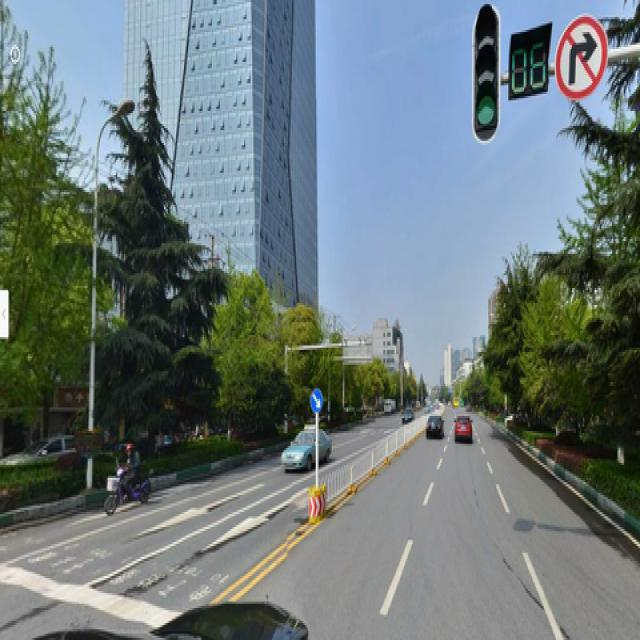cedr: (102, 45, 214, 446)
